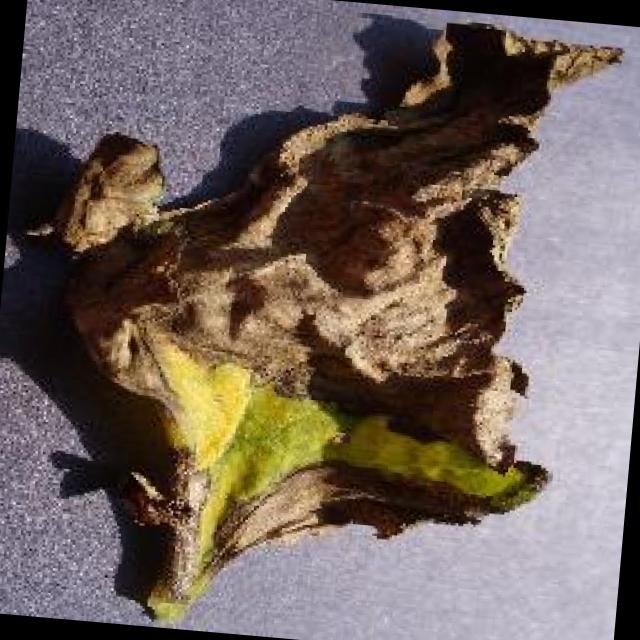Tomato_Late_Blight: (98, 2, 578, 567)
